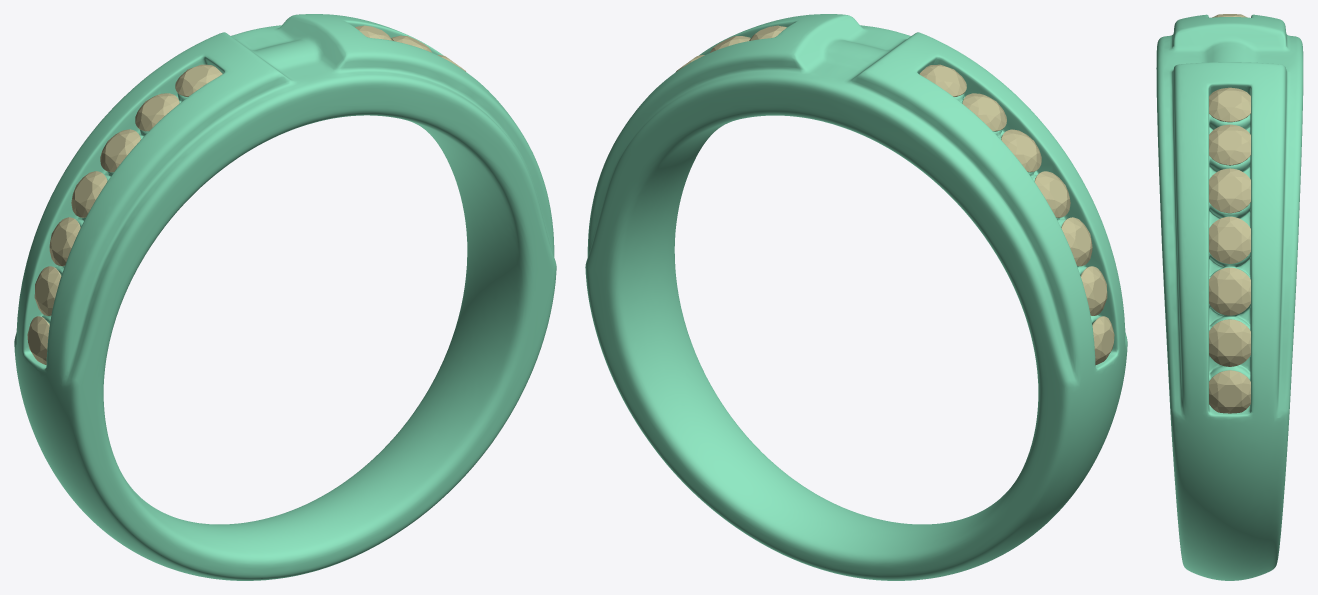
3 views of the same model, side by side, from view 1: azimuth 30°, elevation 25°; view 2: azimuth 150°, elevation 25°; view 3: azimuth 270°, elevation 25° (orthographic). The views are drawn at different scales.
Visible parts, largest first — view 1: Metal02, Diamond_Gem.002, Diamond_Gem.003, Diamond_Gem.004, Diamond_Gem.001, Diamond_Gem.005, Diamond_Gem, Diamond_Gem.006; view 2: Metal02, Diamond_Gem.002, Diamond_Gem.003, Diamond_Gem.004, Diamond_Gem.001, Diamond_Gem.005, Diamond_Gem, Diamond_Gem.006; view 3: Metal02, Diamond_Gem.009, Diamond_Gem.008, Diamond_Gem.010, Diamond_Gem.011, Diamond_Gem.007, Diamond_Gem.012, Diamond_Gem.013.
Boxes of the visible parts, x1,y1,x2,y2 form: Metal02: (14,14,556,580); Diamond_Gem.002: (100,129,140,172); Diamond_Gem.003: (71,171,107,217); Diamond_Gem.004: (49,217,80,266); Diamond_Gem.001: (135,93,179,131); Diamond_Gem.005: (34,266,61,315); Diamond_Gem: (175,64,222,96); Diamond_Gem.006: (27,316,49,365); Metal02: (585,14,1127,580); Diamond_Gem.002: (1001,129,1041,172); Diamond_Gem.003: (1034,171,1070,217); Diamond_Gem.004: (1061,217,1092,266); Diamond_Gem.001: (962,93,1006,131); Diamond_Gem.005: (1080,266,1107,315); Diamond_Gem: (919,64,966,96); Diamond_Gem.006: (1092,316,1114,365); Metal02: (1156,14,1303,580); Diamond_Gem.009: (1209,267,1250,315); Diamond_Gem.008: (1209,319,1250,366); Diamond_Gem.010: (1209,216,1250,263); Diamond_Gem.011: (1209,168,1250,213); Diamond_Gem.007: (1209,370,1250,413); Diamond_Gem.012: (1209,124,1250,165); Diamond_Gem.013: (1209,87,1250,122).
Bounding box in the file's own units: 21.69 × 21.74 × 5.66.
